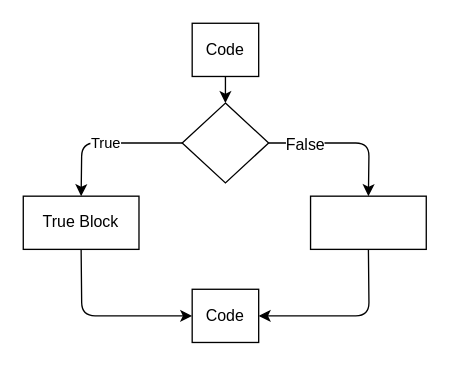
The diagram is 450 pixels wide and 366 high, and some of its shapes have lost their labels. The centre of each missing label's shape, as x and y in pixels:
False Block: the point at 367,222
Test: the point at 225,142
